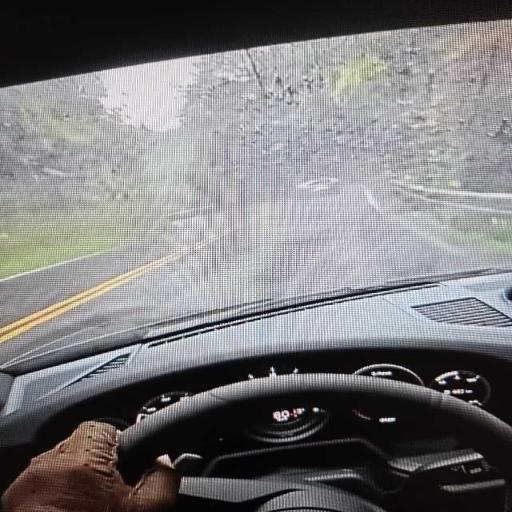car: (0, 20, 511, 511)
lane: (0, 28, 509, 370), (0, 250, 187, 342)
person: (2, 422, 179, 511)
